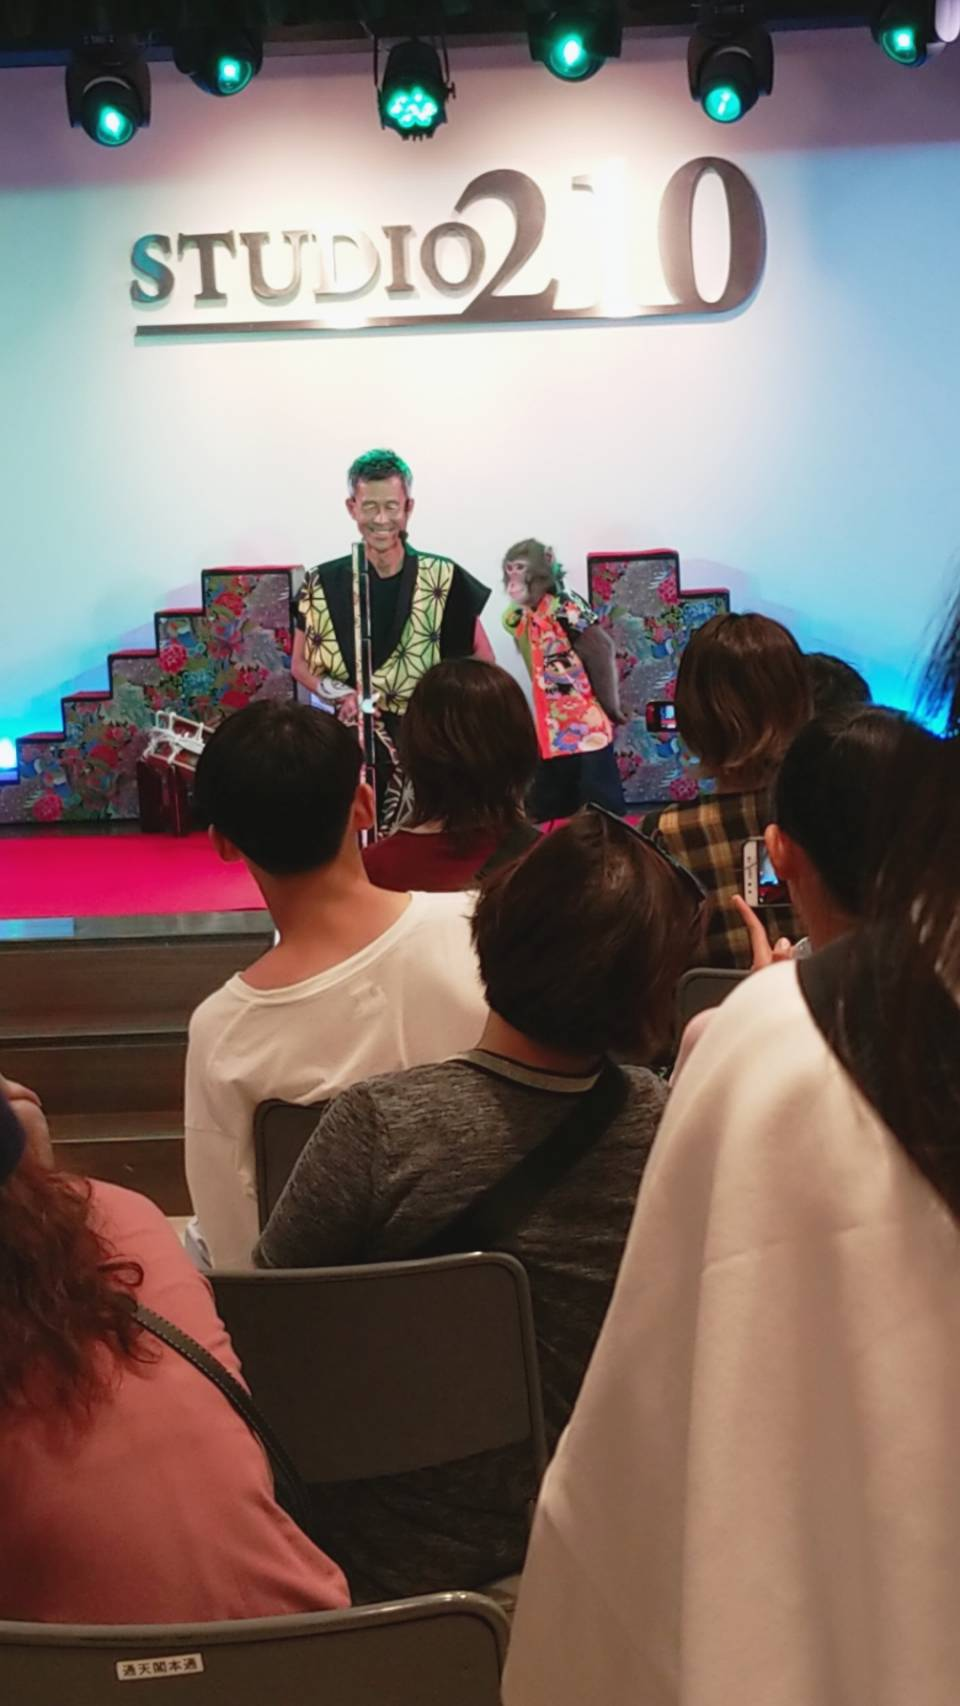female: (270, 801, 719, 1269), (1, 1040, 338, 1637), (638, 610, 802, 828)
male: (177, 701, 458, 1079), (282, 445, 504, 669)
